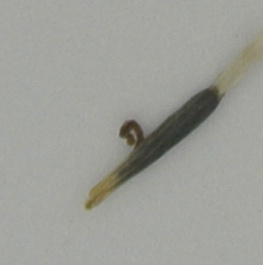เมล็ดงอกแตก: (84, 34, 263, 211)
